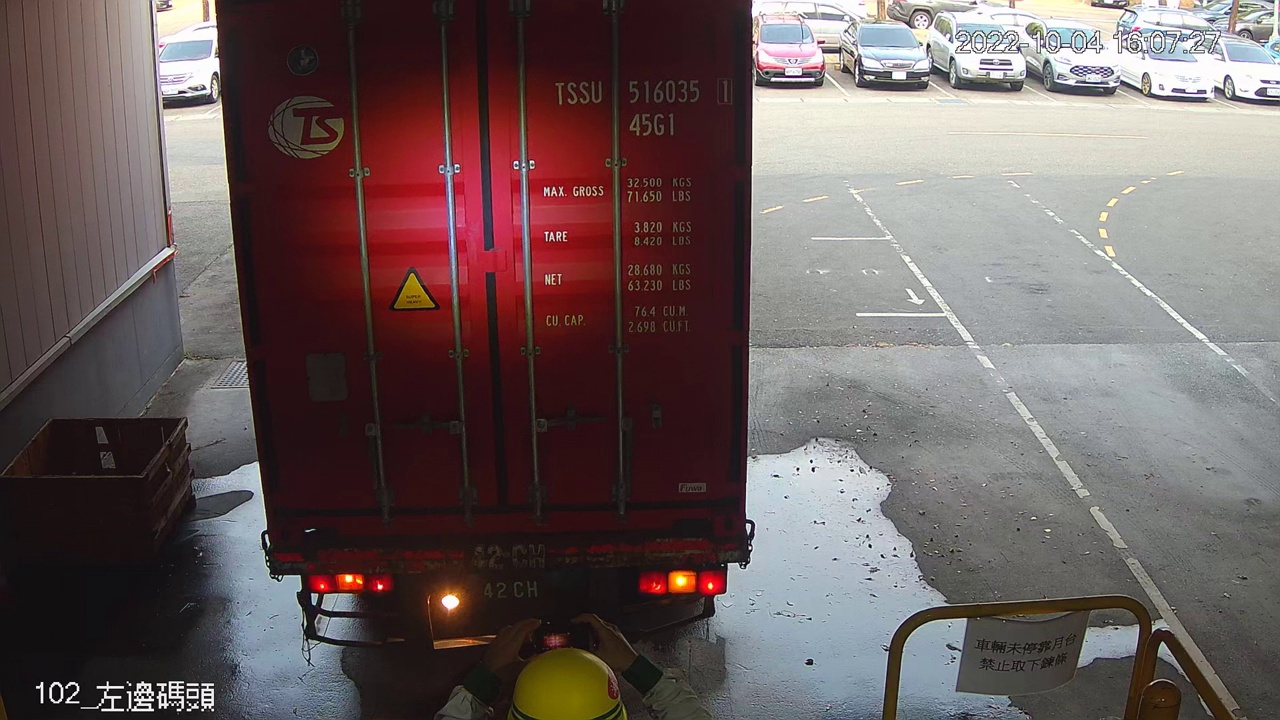container: (546, 72, 743, 141)
